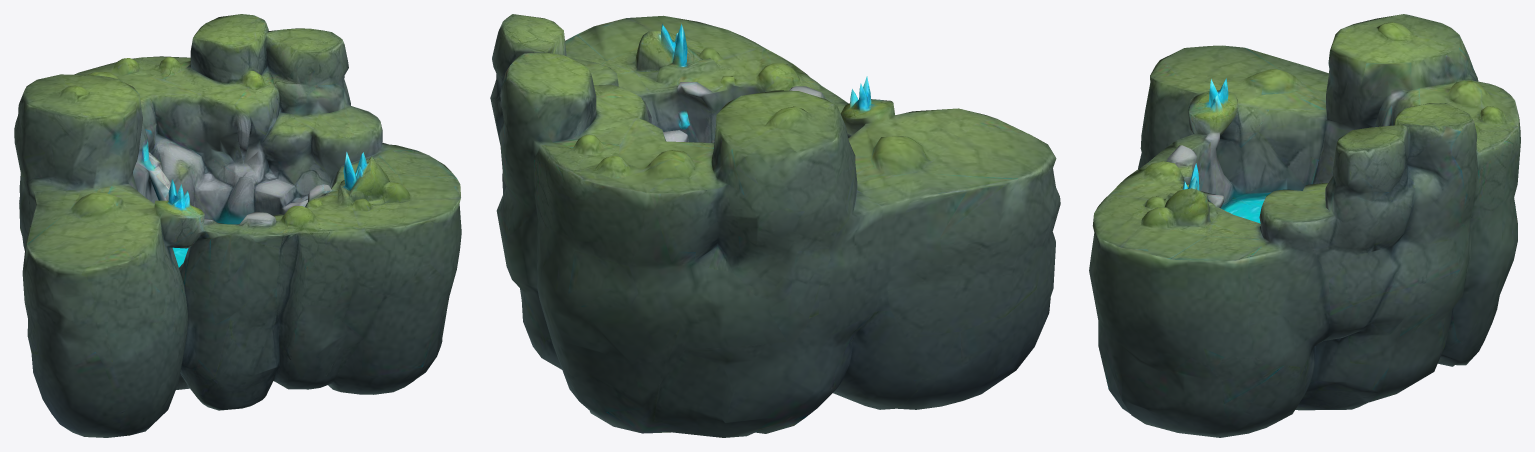
Rendered from waterfall.glb.
3 renders of one model, left to right at view 1: azimuth 30°, elevation 25°; view 2: azimuth 150°, elevation 25°; view 3: azimuth 270°, elevation 25°, orthographic. The views are drawn at different scales.
Bounding box in the file's own units: 1.9 × 1.23 × 1.6.
Materials: 1 (1 with a texture image).
